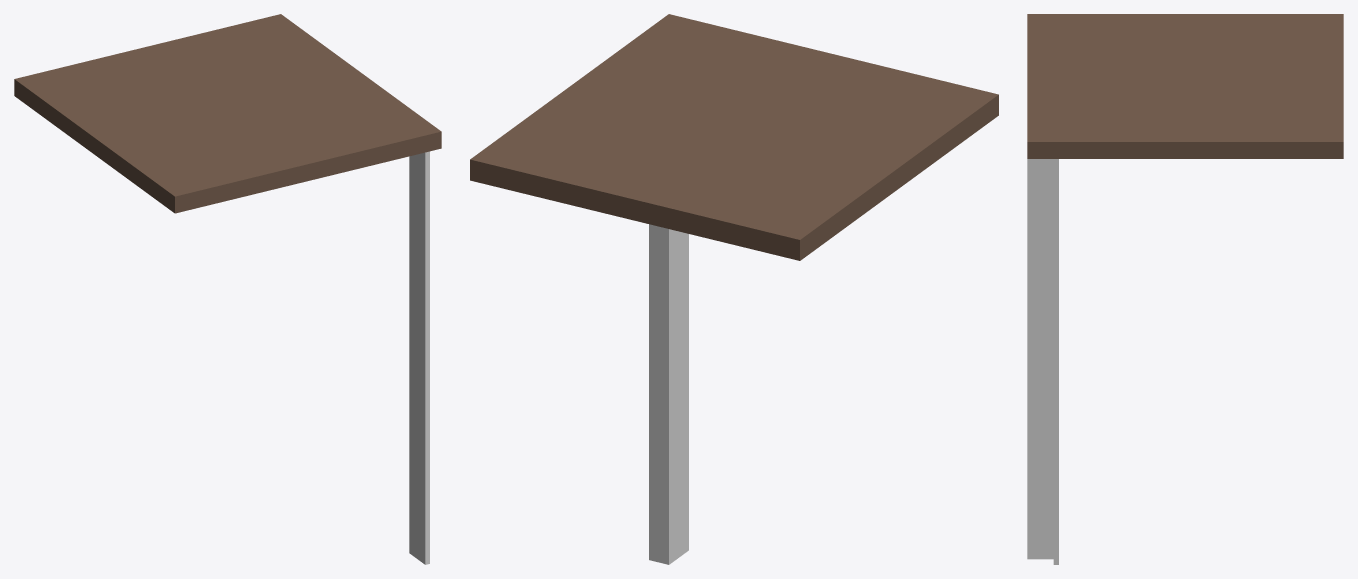
Rendered from KitchenCorner1_C1_02L.fbx.
The picture shows the model from 3 angles, left to right: view 1: azimuth 30°, elevation 25°; view 2: azimuth 150°, elevation 25°; view 3: azimuth 270°, elevation 25°; orthographic projection. The views are drawn at different scales.
Visible parts, largest first — view 1: KitchenCorner1_C1_02L; view 2: KitchenCorner1_C1_02L; view 3: KitchenCorner1_C1_02L.
Boxes of the visible parts, <box> form: KitchenCorner1_C1_02L: <box>14,14,441,564</box>; KitchenCorner1_C1_02L: <box>470,14,998,564</box>; KitchenCorner1_C1_02L: <box>1027,14,1343,564</box>.
Bounding box in the file's own units: 57.5 × 88.5 × 60.
